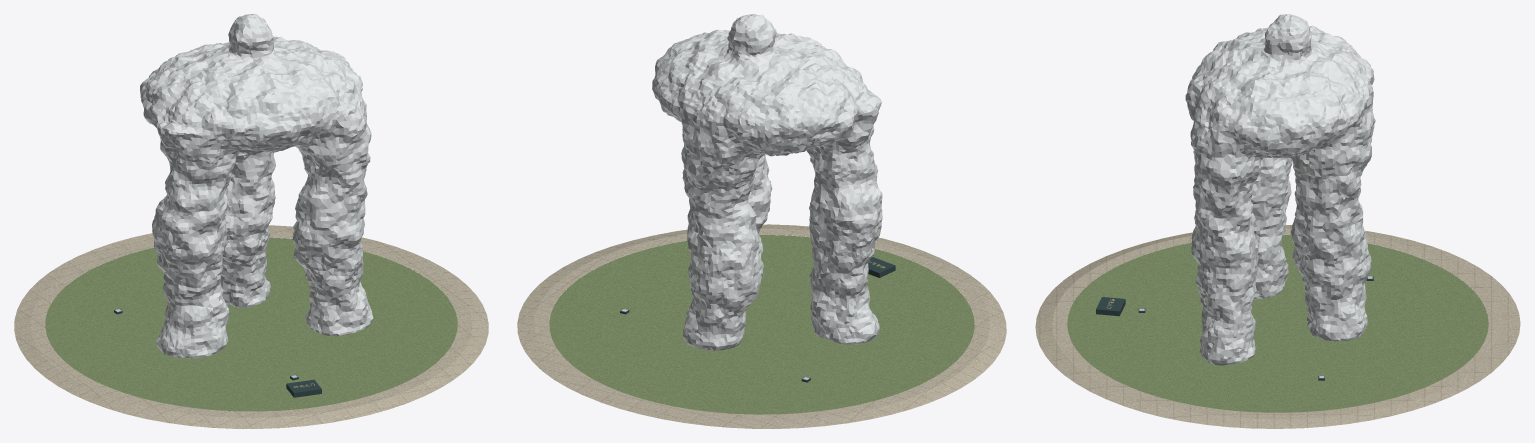
Rendered from time-gate.glb.
The picture shows the model from 3 angles, left to right: view 1: azimuth 30°, elevation 25°; view 2: azimuth 150°, elevation 25°; view 3: azimuth 270°, elevation 25°; orthographic projection. The views are drawn at different scales.
Parts seen in each view (by area): view 1: landmark-time-gate; view 2: landmark-time-gate; view 3: landmark-time-gate.
Part boxes in pixels (<box>): landmark-time-gate: <box>14,14,488,428</box>; landmark-time-gate: <box>517,14,1006,428</box>; landmark-time-gate: <box>1035,14,1520,428</box>.
Bounding box in the file's own units: 29 × 20.76 × 29.
6 materials, 2 textured.
